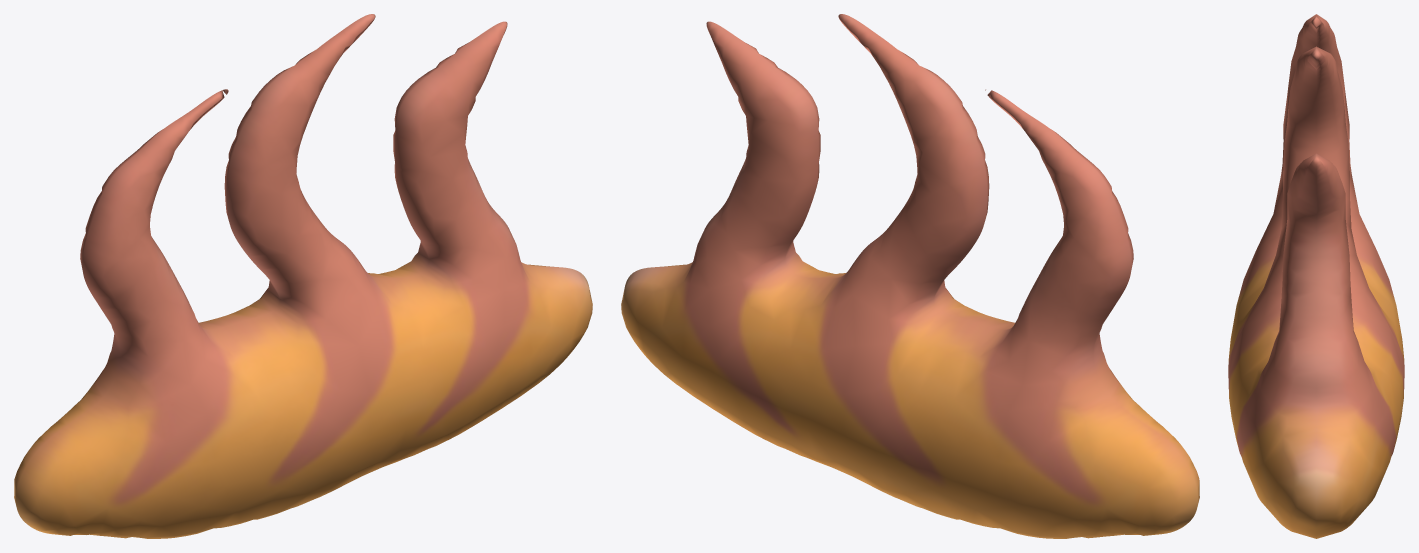
File: spa.glb
3 views of the same model, side by side, from view 1: azimuth 30°, elevation 25°; view 2: azimuth 150°, elevation 25°; view 3: azimuth 270°, elevation 25° (orthographic).
Visible parts, largest first — view 1: Mesh_0.010; view 2: Mesh_0.010; view 3: Mesh_0.010.
Boxes of the visible parts, bbox=[...] form: Mesh_0.010: bbox=[14, 14, 592, 538]; Mesh_0.010: bbox=[621, 14, 1199, 538]; Mesh_0.010: bbox=[1228, 14, 1404, 538].
Size of the model in its own units: 126 by 98.78 by 33.19.
1 material, 1 textured.
